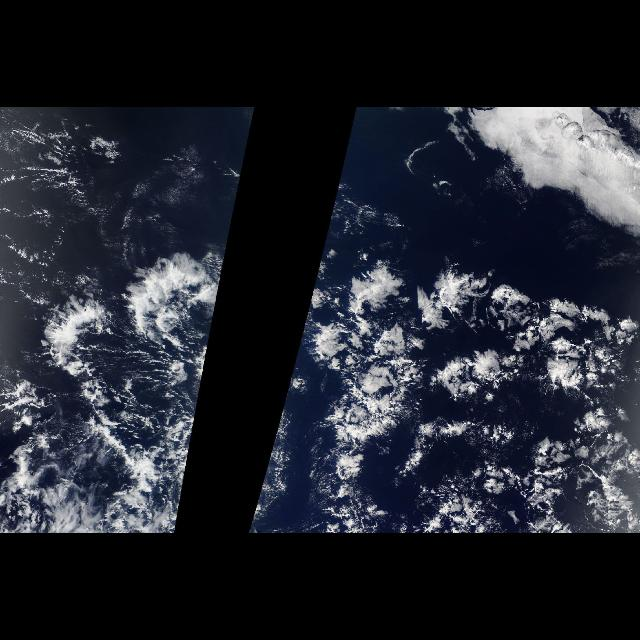Flower: (310, 258, 632, 422)
